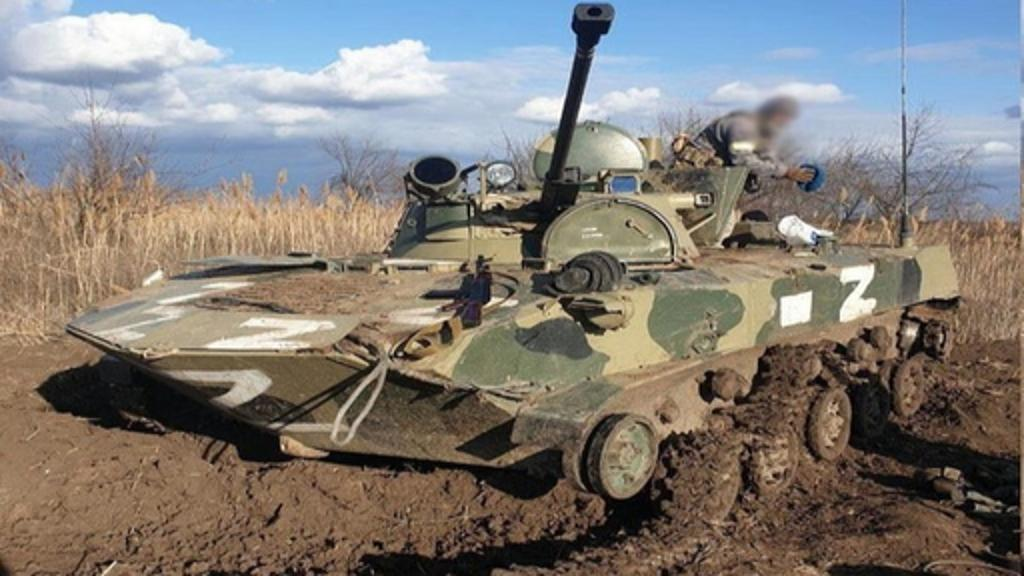APC-IFV: (58, 0, 958, 510)
